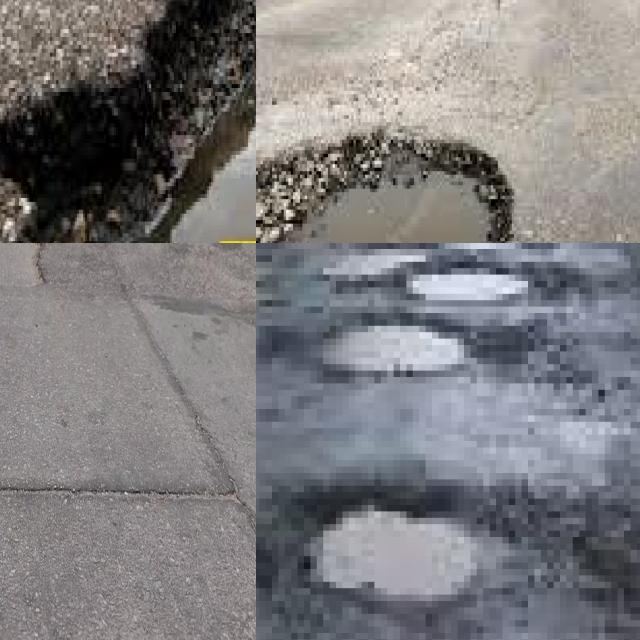Pothole: (317, 486, 515, 595), (406, 243, 528, 307), (323, 326, 464, 371)
